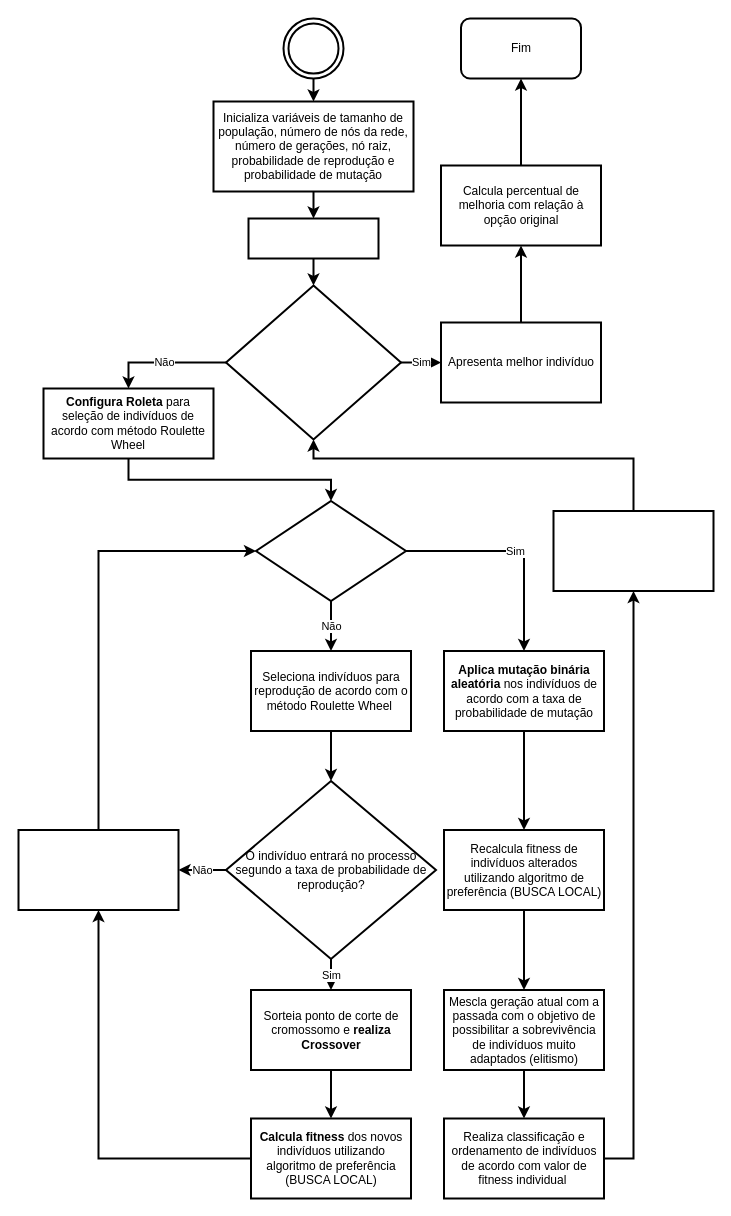
Image size: 731x1216. Some labels were removed from this diagram. The centre of each missing label's shape, as x and y in pixels:
"A nova geração está completa?" belongs at (330,551).
"Cria geração inicial" belongs at (313,238).
"Inclui indivíduos em nova população" belongs at (98,869).
"Início" belongs at (313,48).
"Limita indivíduos da nova população ao tamanho da população" belongs at (633,551).
"O número de gerações foi alcançado?" belongs at (313,362).
